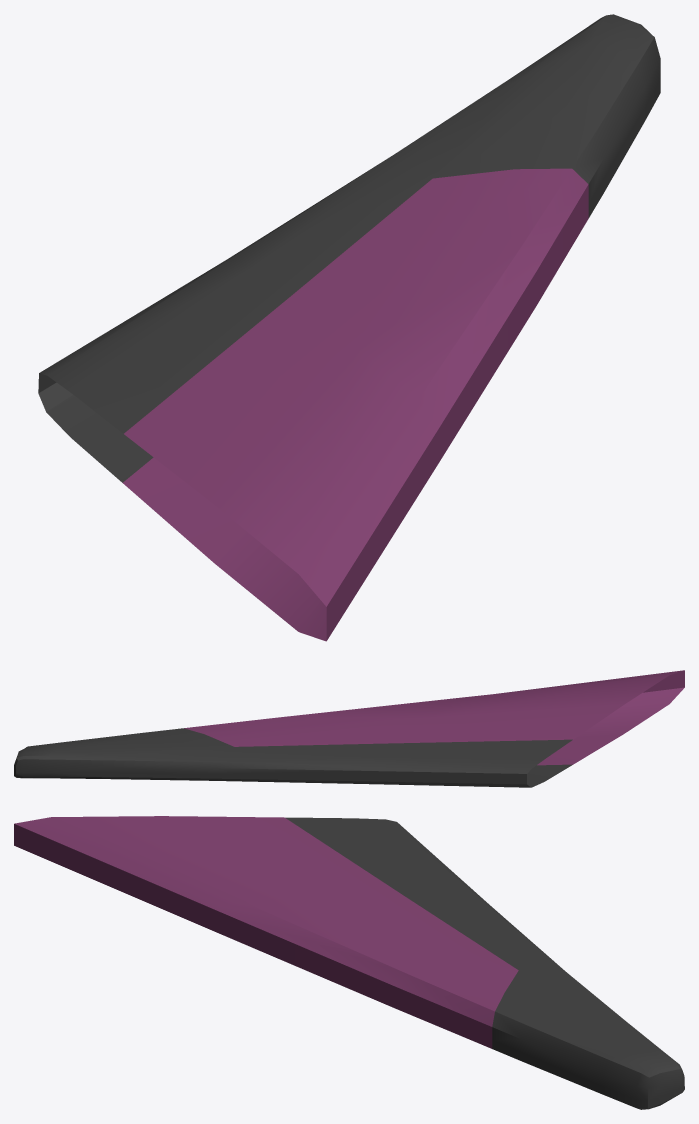
File: WingShip.fbx
3 renders of one model, top to bottom at view 1: azimuth 30°, elevation 25°; view 2: azimuth 150°, elevation 25°; view 3: azimuth 270°, elevation 25°, orthographic. The views are drawn at different scales.
Visible parts, largest first — view 1: Spaceship_FernandoTheFlamingo.001; view 2: Spaceship_FernandoTheFlamingo.001; view 3: Spaceship_FernandoTheFlamingo.001.
Part boxes in pixels (x1,y1,x2,y2): Spaceship_FernandoTheFlamingo.001: (38, 14, 660, 641); Spaceship_FernandoTheFlamingo.001: (14, 670, 684, 787); Spaceship_FernandoTheFlamingo.001: (14, 816, 684, 1109).
Bounding box in the file's own units: 302 × 22.32 × 332.
Materials: 1 (1 with a texture image).
